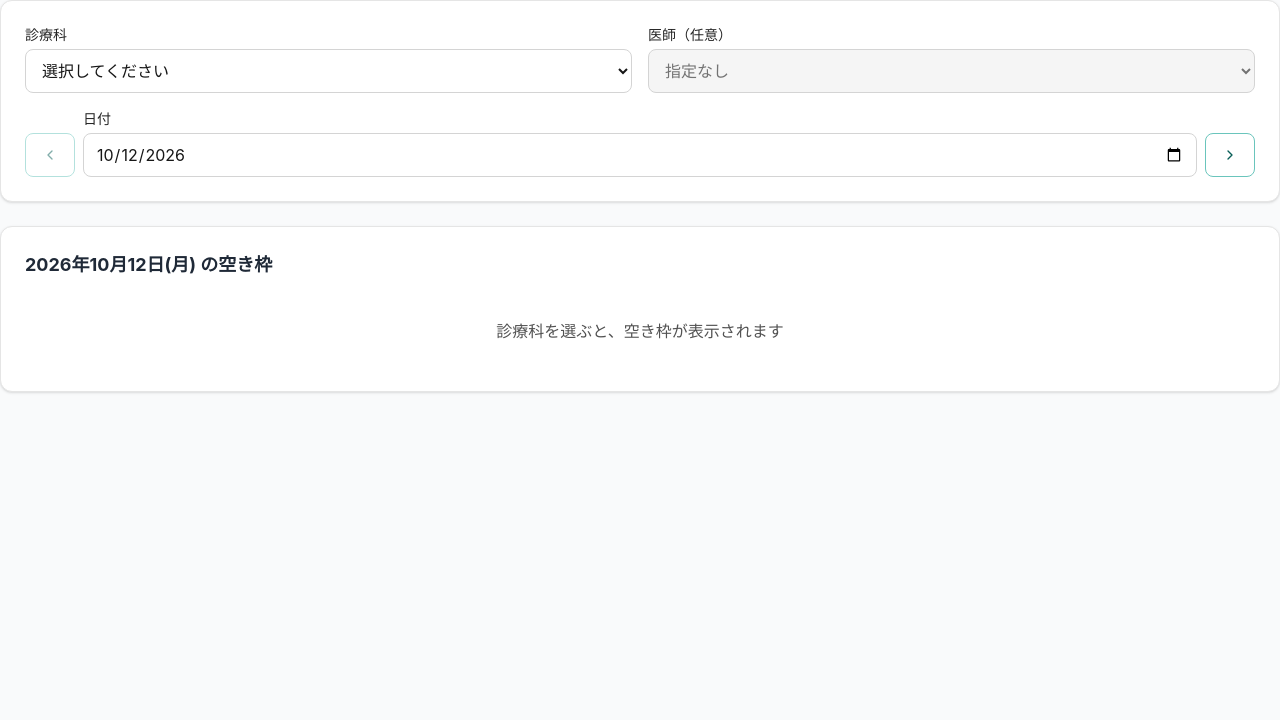
Scenario: BookingFlow（予約の流れ） › 予約の確定 › 来院区分が未選択なら確定できない
Select "内科" in the dropdown labelled "診療科" at (328, 71), box [25,49,632,93]
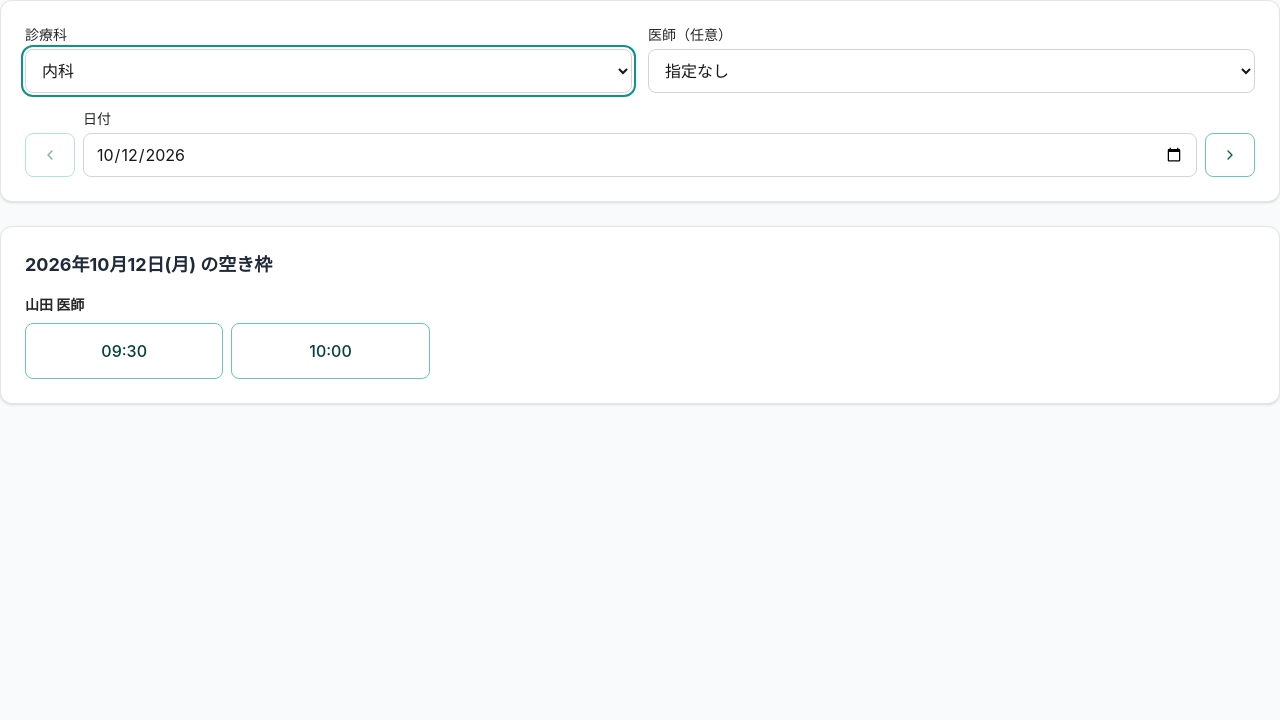
Click the button "09:30" at (124, 351), box [25,323,223,379]
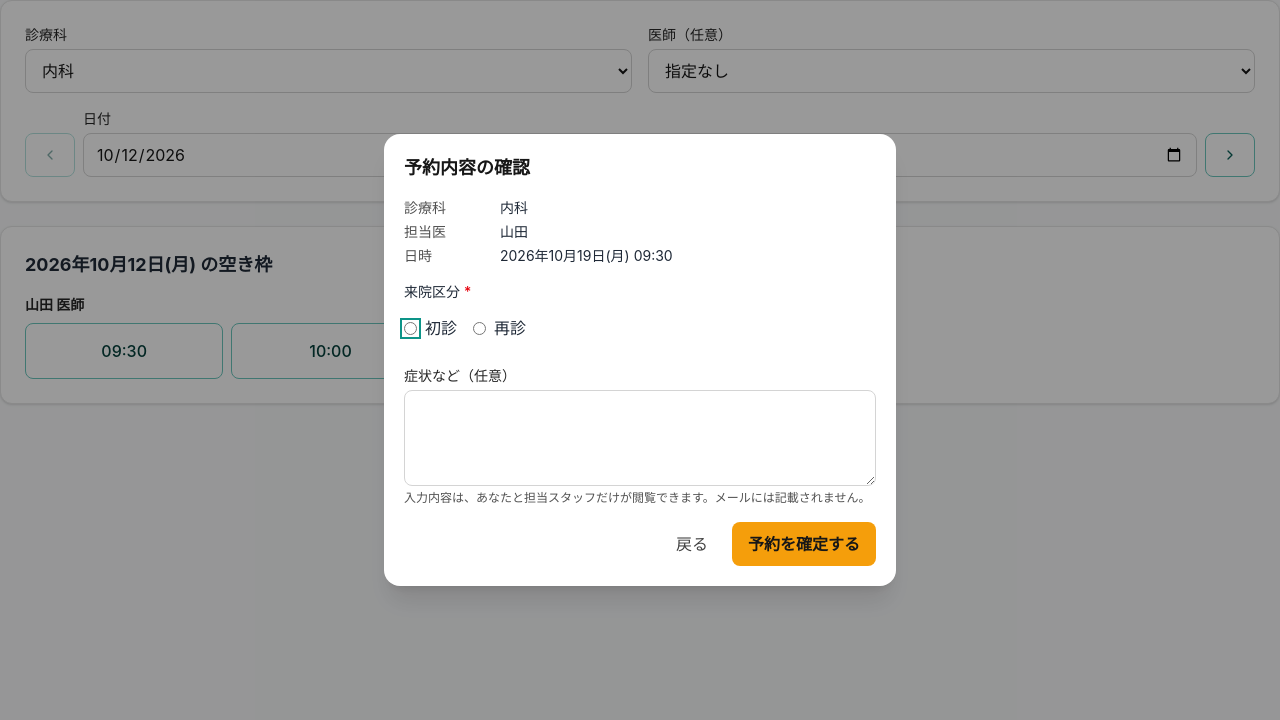
Click the button "予約を確定する" at (804, 544), box [732,522,876,566]
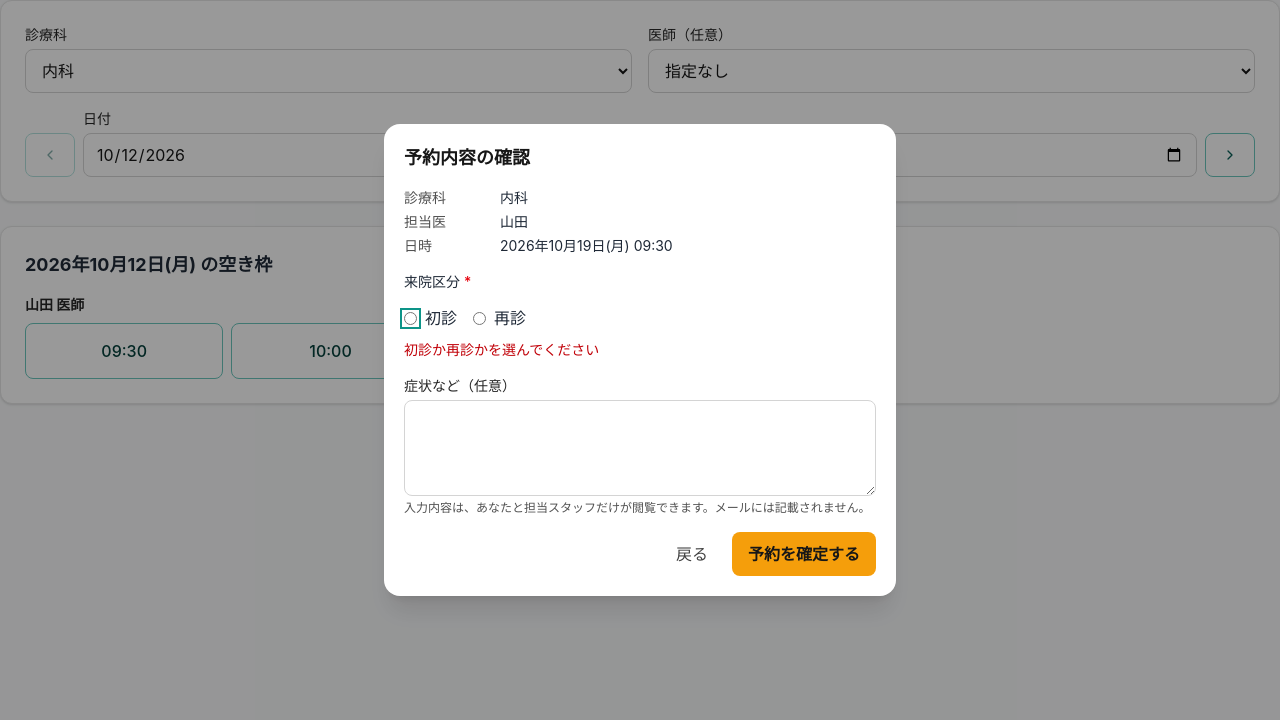
expect the text "初診か再診かを選んでください" is shown: met, box [404,341,599,358]
